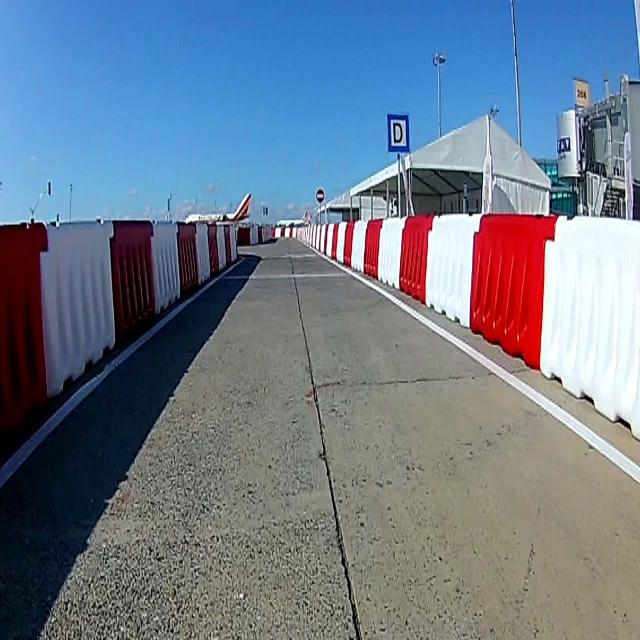durak: (387, 113, 409, 152)
girisyok: (316, 186, 324, 202)
